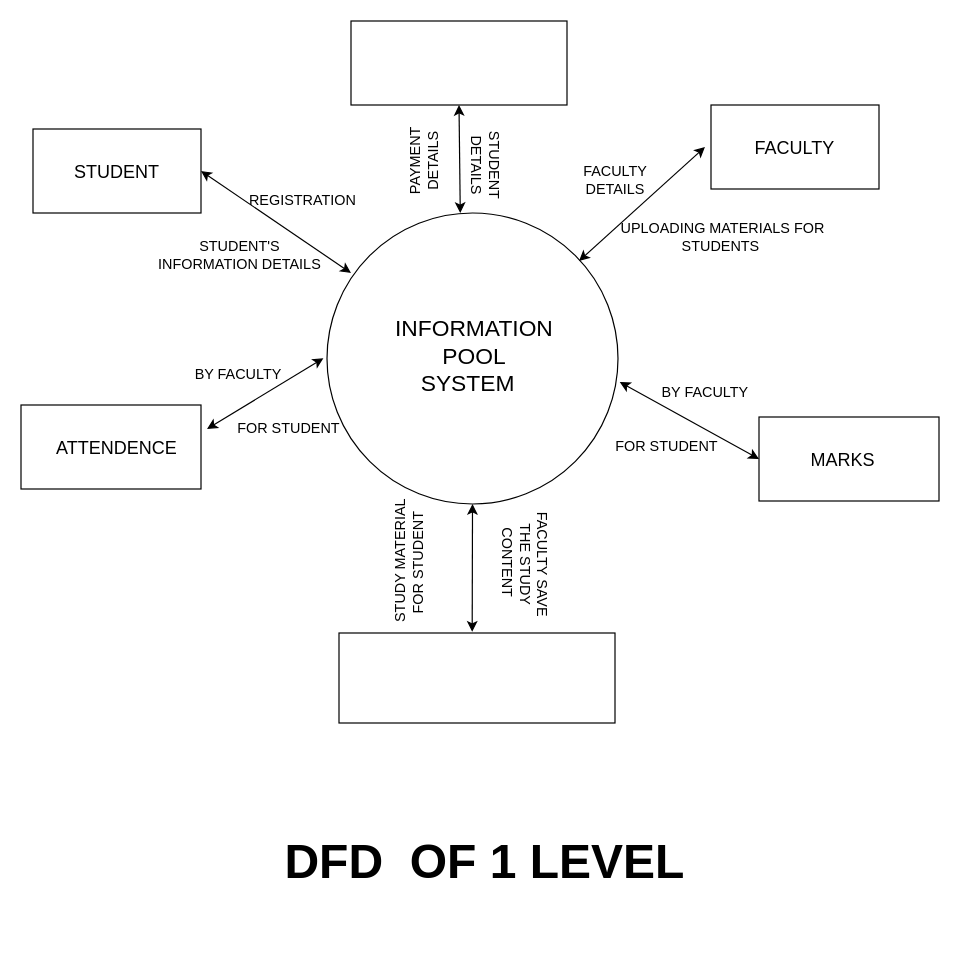
This 960x978 diagram has some shape labels left out. The box of each missing label's shape, as (x1, y1, x2, y2) in pixels:
ADMINISTRATION: (350, 20, 567, 105)
RESOURCE LIBRARY: (338, 632, 615, 723)
